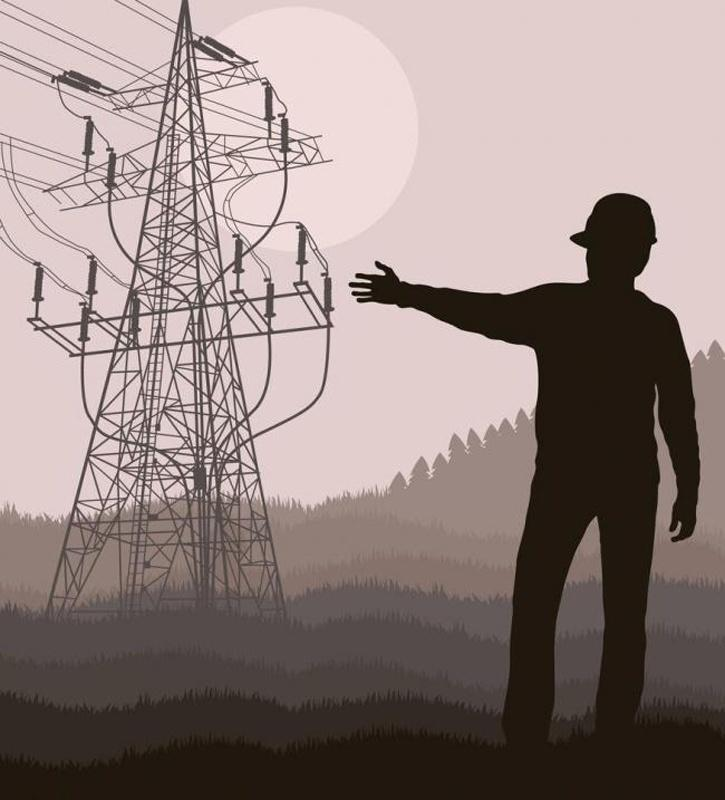power_tower: (76, 21, 364, 619)
